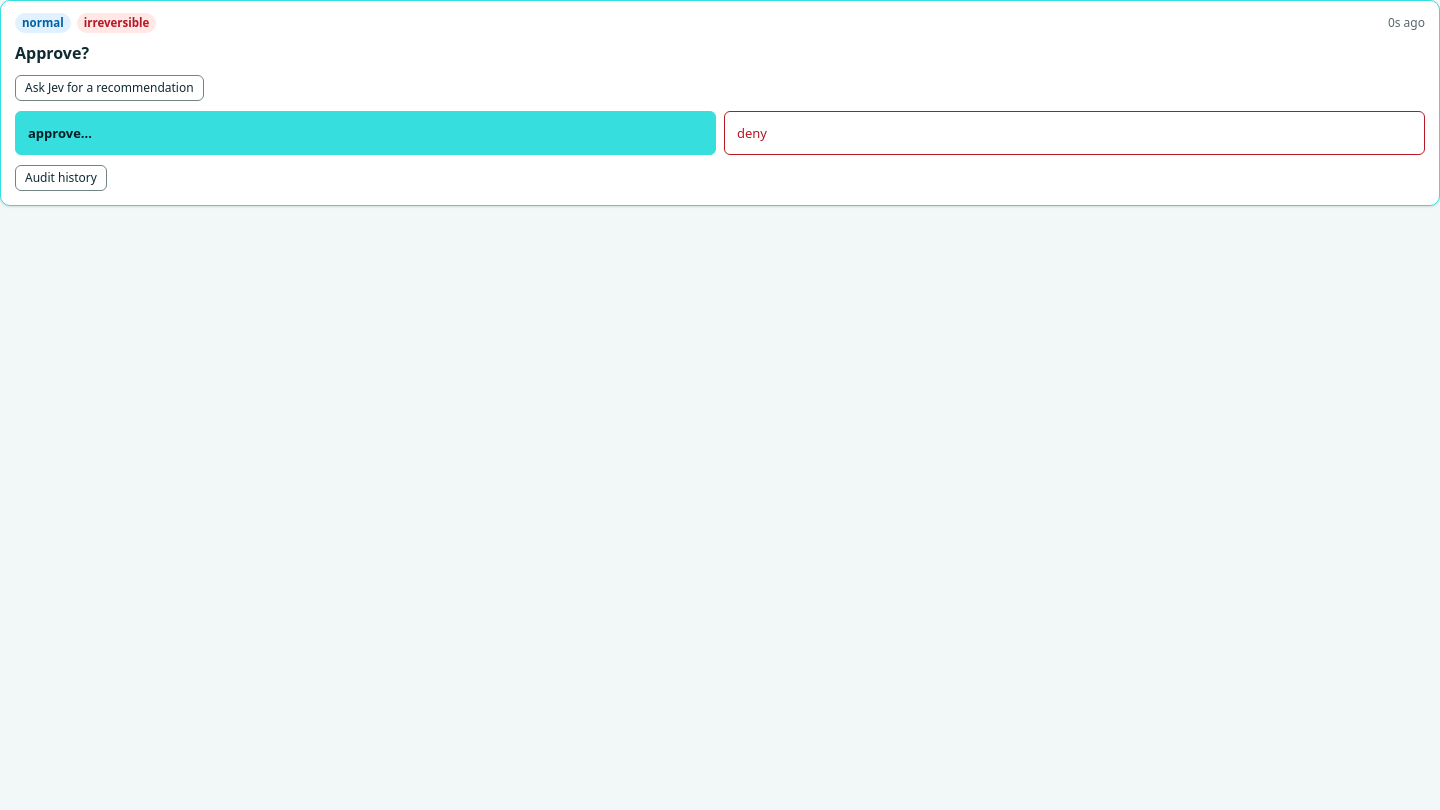
Test: Decision confirmation invalidation › clears prepared confirmation on offline transition
This screenshot has width=1440, height=810.
Click the button "approve…": (54, 133) [15,111,716,155]
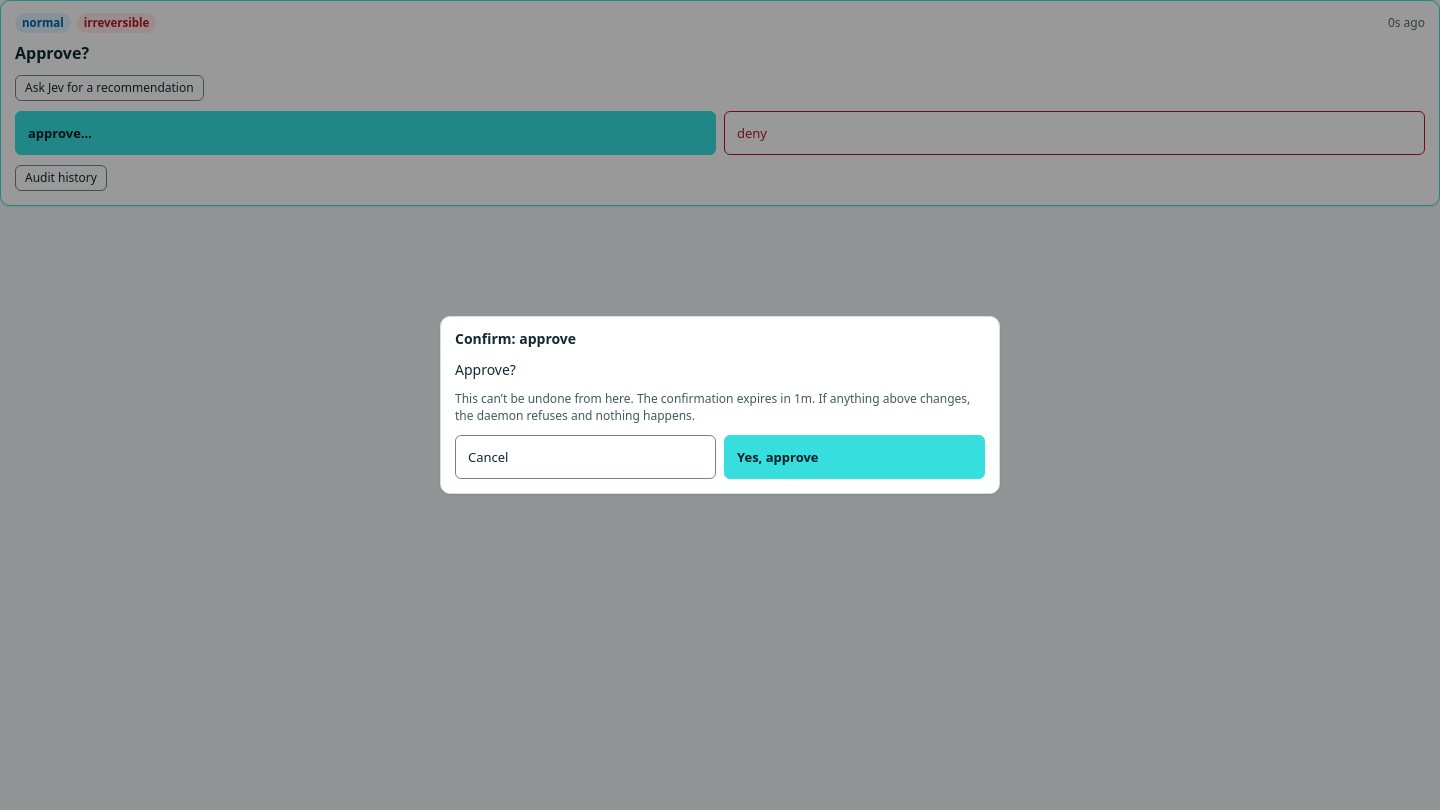
Now the dialog is shown, box [440,316,1000,494]
